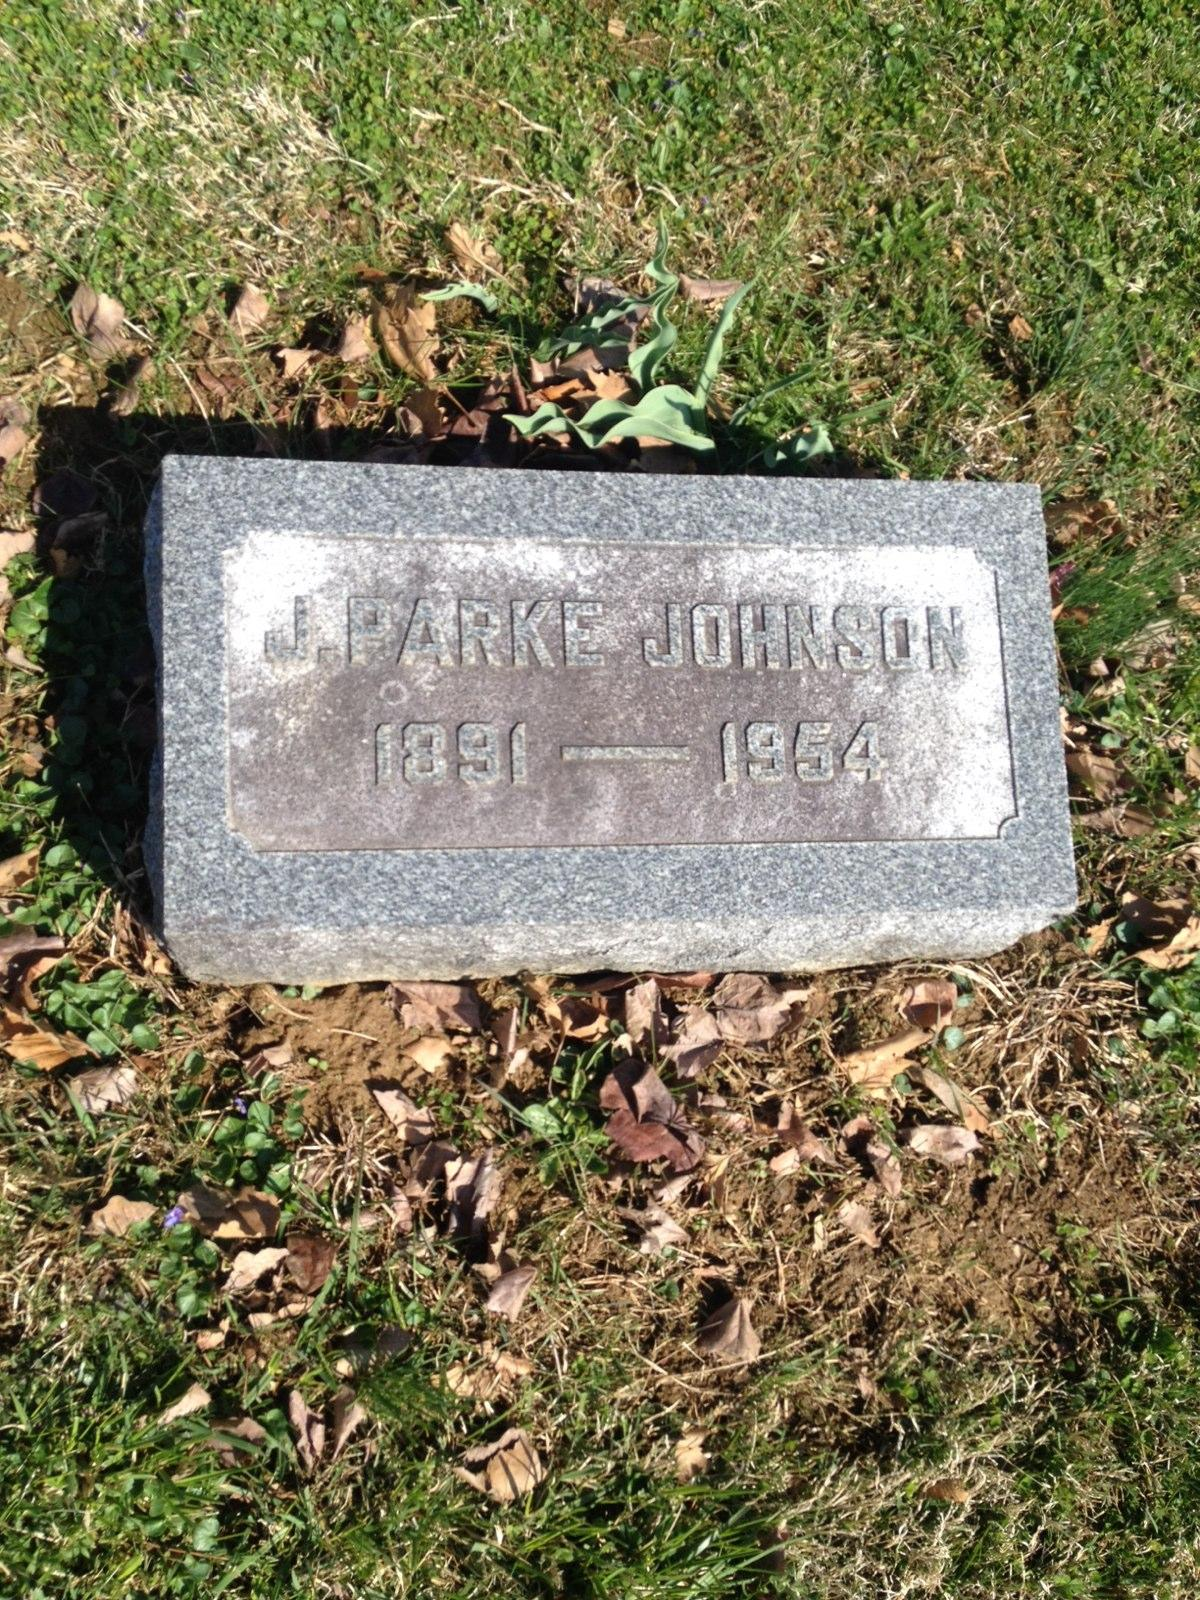flat: (122, 420, 1092, 994)
